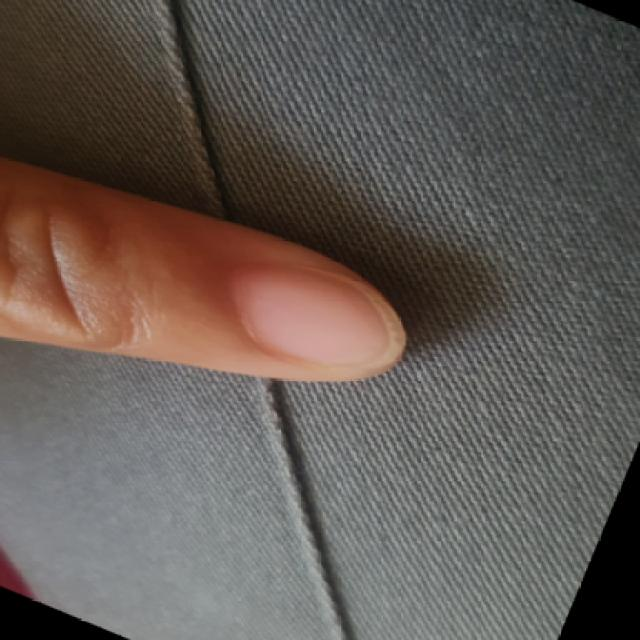Nail: (234, 270, 404, 368)
